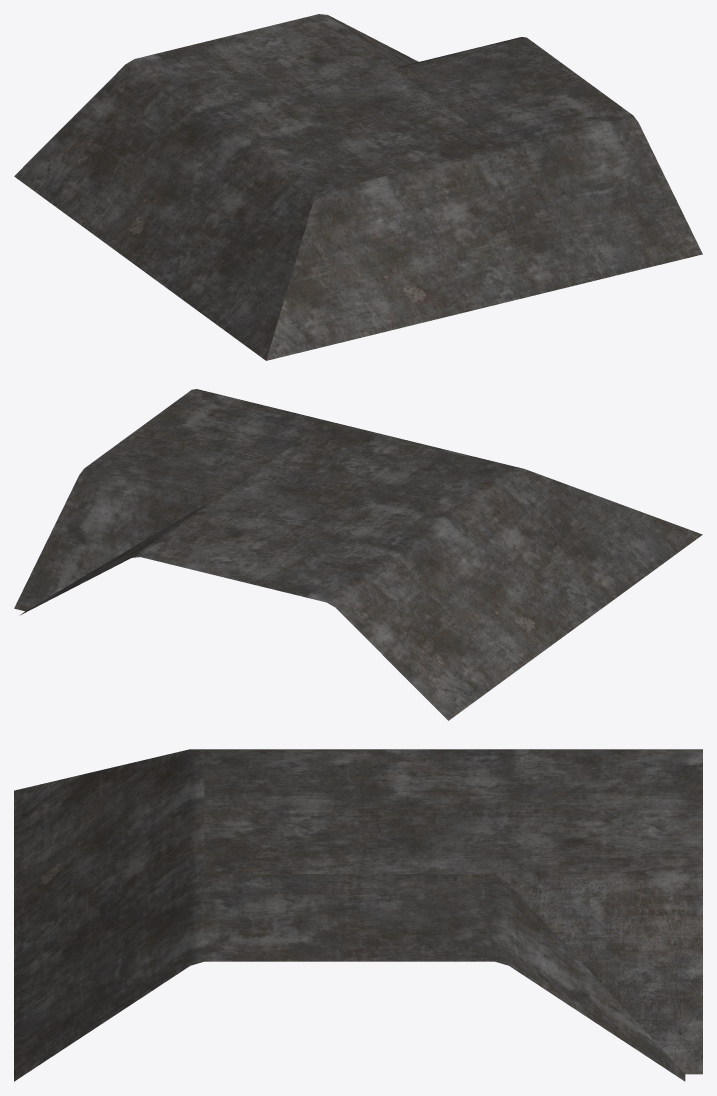
The model's file is Basement_Corridor_A_Ceiling_Arched_Corner.glb.
3 views of the same model, one above another, from view 1: azimuth 30°, elevation 25°; view 2: azimuth 150°, elevation 25°; view 3: azimuth 270°, elevation 25° (orthographic). The views are drawn at different scales.
Visible parts, largest first — view 1: Basement_Corridor_A_Ceiling_Arched_Corner; view 2: Basement_Corridor_A_Ceiling_Arched_Corner; view 3: Basement_Corridor_A_Ceiling_Arched_Corner.
Part boxes in pixels (box(x1,y1,x2,y2)): Basement_Corridor_A_Ceiling_Arched_Corner: box(14, 14, 702, 360); Basement_Corridor_A_Ceiling_Arched_Corner: box(14, 389, 702, 720); Basement_Corridor_A_Ceiling_Arched_Corner: box(14, 749, 702, 1081).
Size of the model in its own units: 3.9 by 0.75 by 3.9.
Materials: 1 (1 with a texture image).
